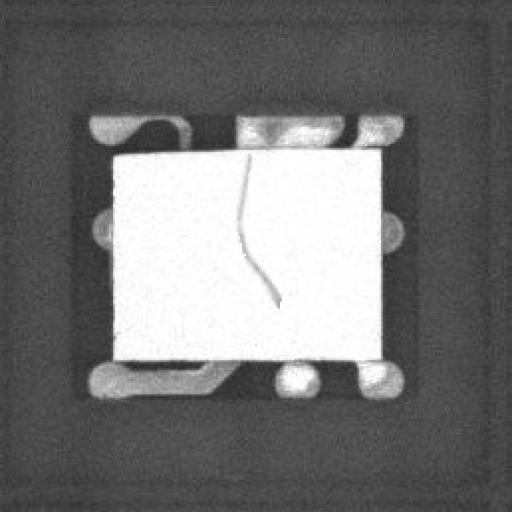DIE_INK: (224, 159, 265, 319)
